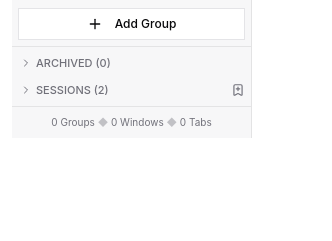
SidePanel — automatic backups are not sessions › leaves automatic backups out of the list and the count, keeps manual sessions
Expected: the text "SESSIONS (2)" is shown, x1=36 y1=82 x2=109 y2=98
Click the button "SESSIONS (2)" at (118, 90), box x1=12 y1=80 x2=225 y2=100
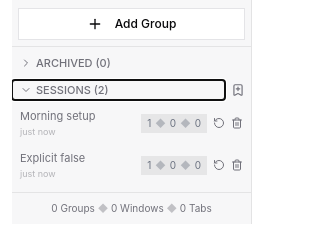
Expected: the text "Morning setup" is shown, x1=20 y1=109 x2=95 y2=123
Expected: the text "Explicit false" is shown, x1=20 y1=151 x2=85 y2=165
